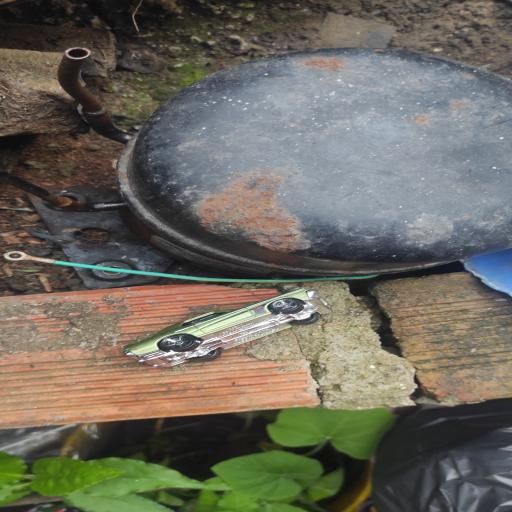Carrito: (124, 289, 330, 367)
